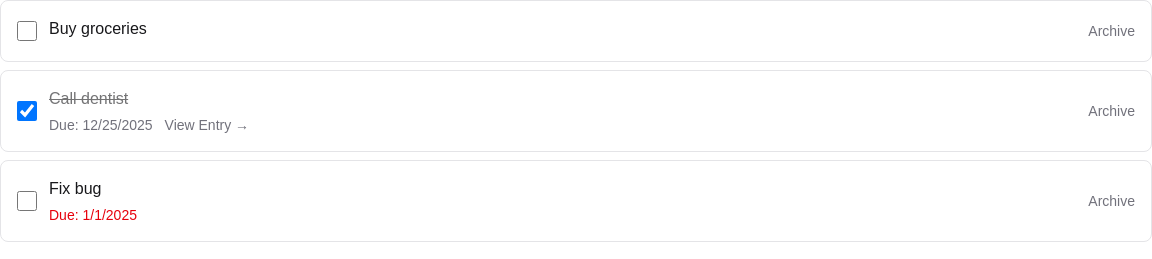
it: TodoList › archives todo optimistically
Expected: the text "Buy groceries" is shown, [49, 20, 147, 37]
Click the button "Archive" in the row of "Buy groceries".
click(1112, 31)  # box [1088, 21, 1135, 41]
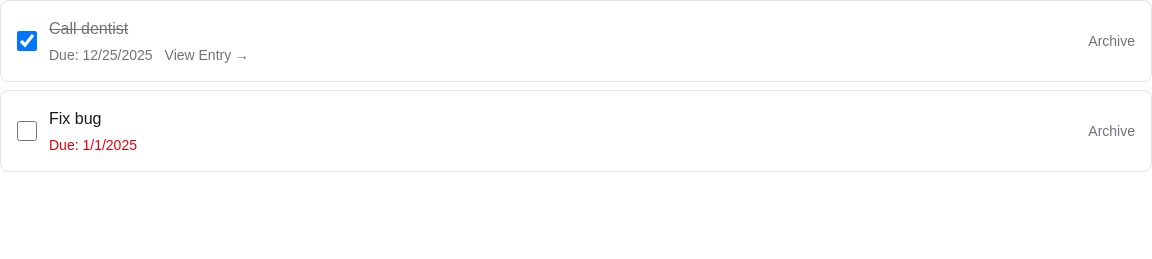
Now the text "Buy groceries" is gone
